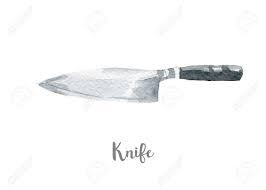Knife: (38, 64, 243, 103)
